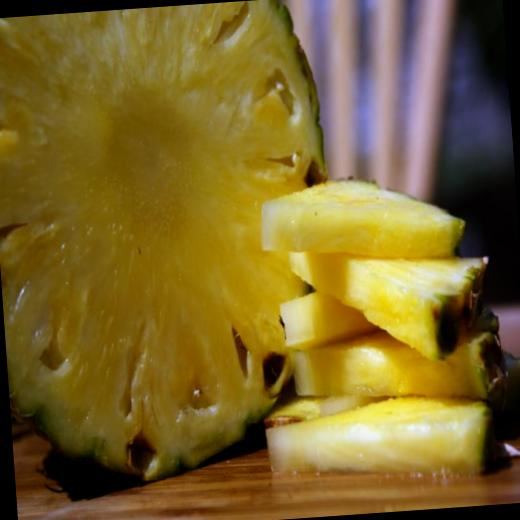Mango: (0, 0, 353, 496), (243, 153, 520, 499)
